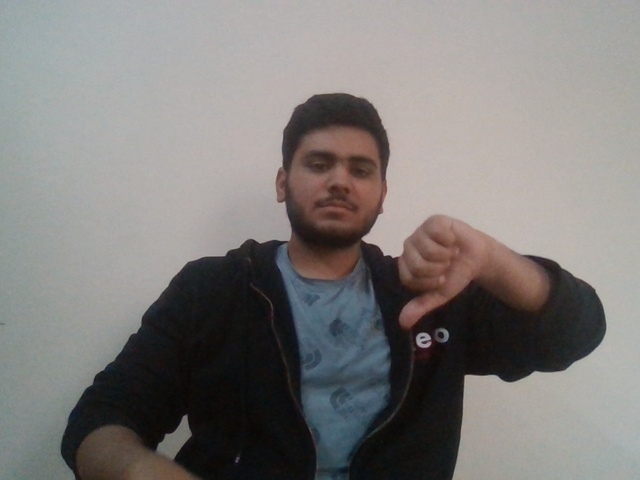No: (387, 210, 477, 332)
